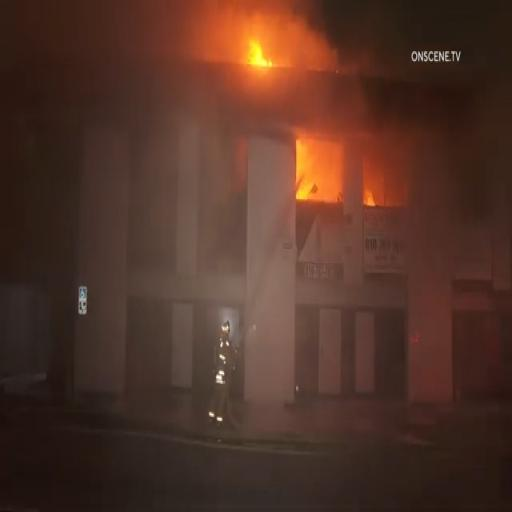fire: (239, 31, 276, 66)
smoke: (0, 0, 216, 57)
